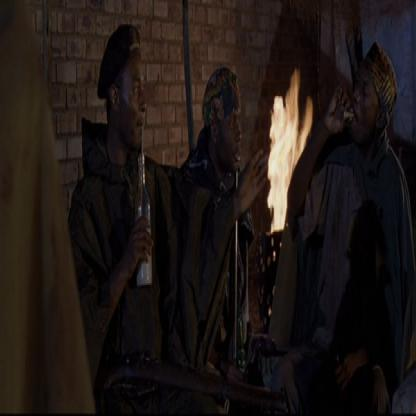Gun: (222, 165, 243, 378)
